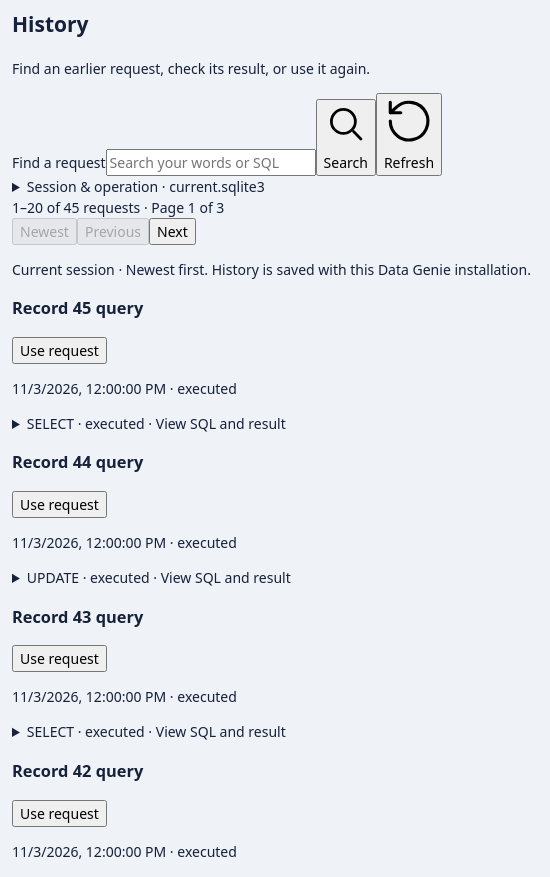
Test: shows loading and ignores a stale page response after applying new filters
Expected: the text "1–20 of 45 requests · Page 1 of 3" is shown, top-left (12, 198), bottom-right (224, 216)
Click the button "Next" at point(172, 231), box top-left (149, 218), bottom-right (196, 244)
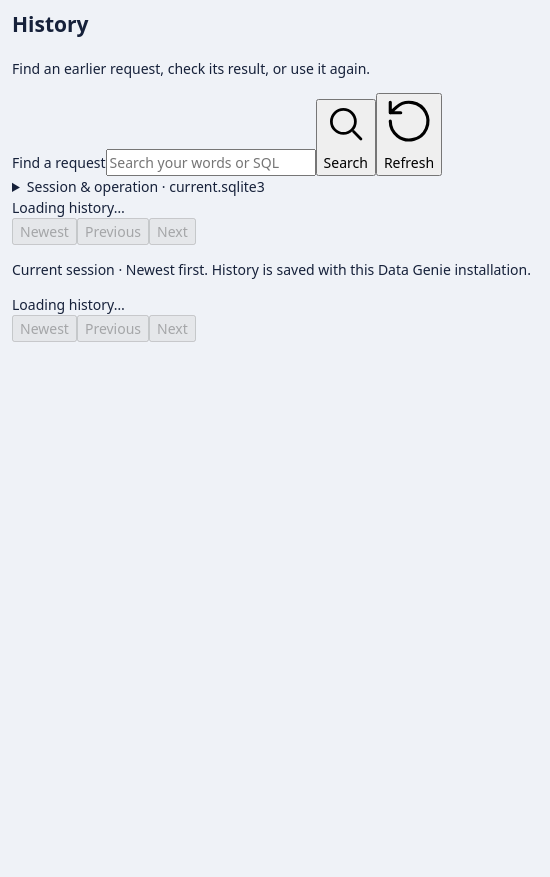
Result: the text "Loading history…" is shown at top-left (12, 198), bottom-right (125, 216)
Result: the button "Next" below "Session & operation ·" is disabled at top-left (149, 218), bottom-right (196, 244)
Type "Record 45" into the search field labelled "Find a request" at point(211, 162), box top-left (106, 148), bottom-right (316, 176)
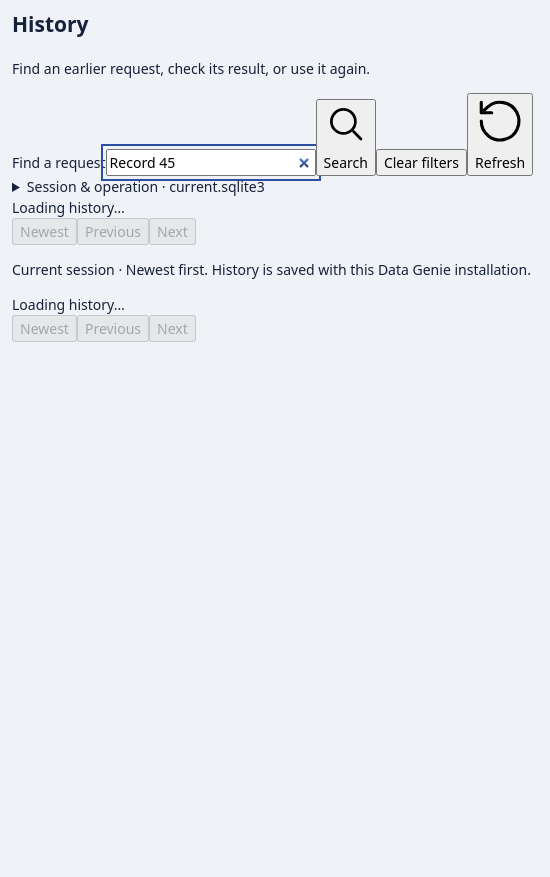
Click the button "Search" at point(346, 137), box top-left (316, 99), bottom-right (376, 176)
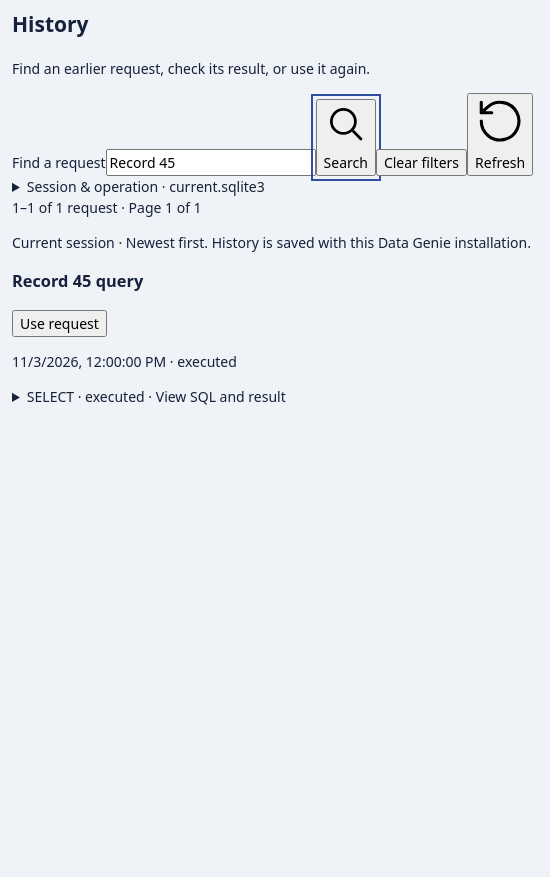
Result: the text "1–1 of 1 request · Page 1 of 1" is shown at top-left (12, 198), bottom-right (202, 216)
Result: the number of elements with class "history-entry" is 1 at top-left (12, 270), bottom-right (286, 406)
Result: the heading "Record 45 query" is shown at top-left (12, 270), bottom-right (143, 292)
